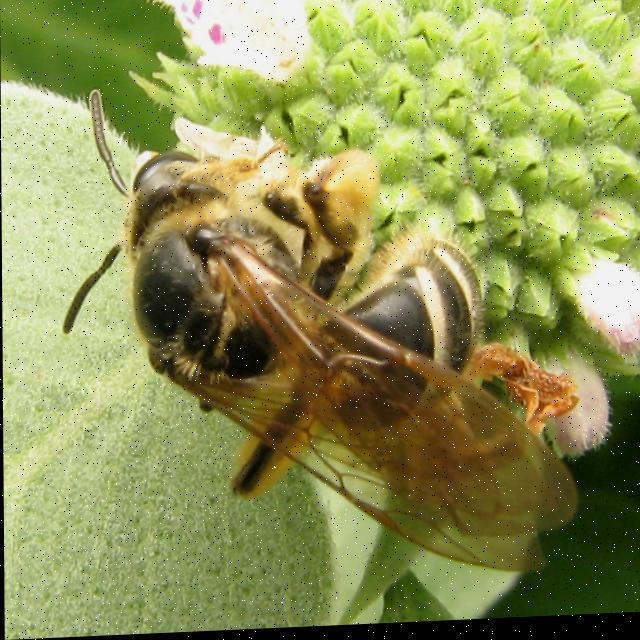Lasioglossum: (75, 61, 594, 576)
